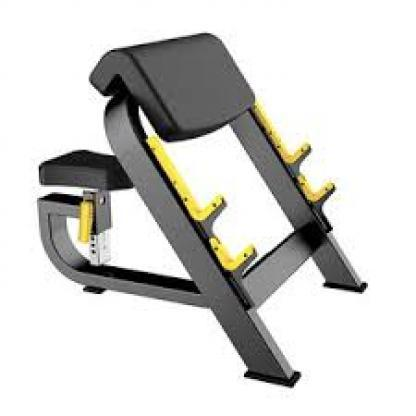arm curl machine: (36, 32, 371, 389)
